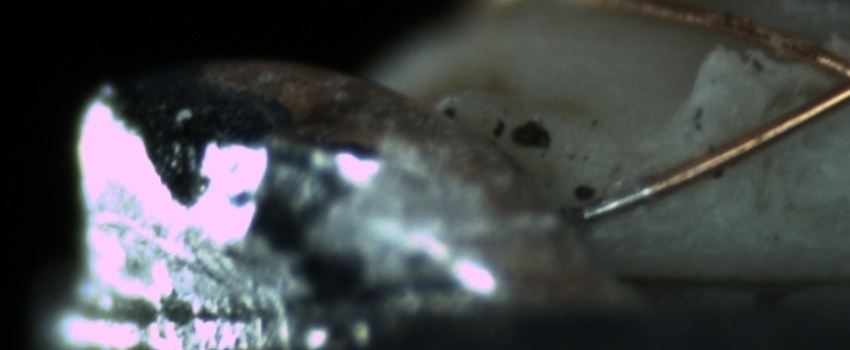CL: (800, 29, 849, 122)
TS: (579, 184, 663, 221)
